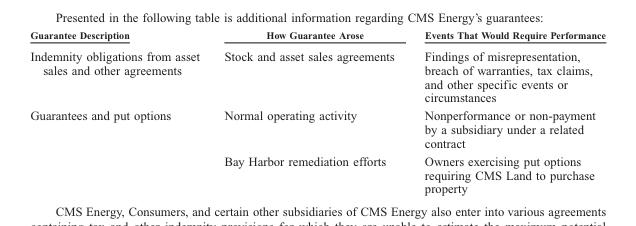table: (29, 29, 605, 195)
table column: (211, 29, 408, 195), (408, 29, 605, 195), (29, 29, 211, 195)
table column header: (29, 29, 605, 44)
table row: (29, 44, 605, 106), (29, 106, 605, 151), (29, 151, 605, 195), (29, 29, 605, 44)
table spanning cell: (29, 106, 211, 195)
